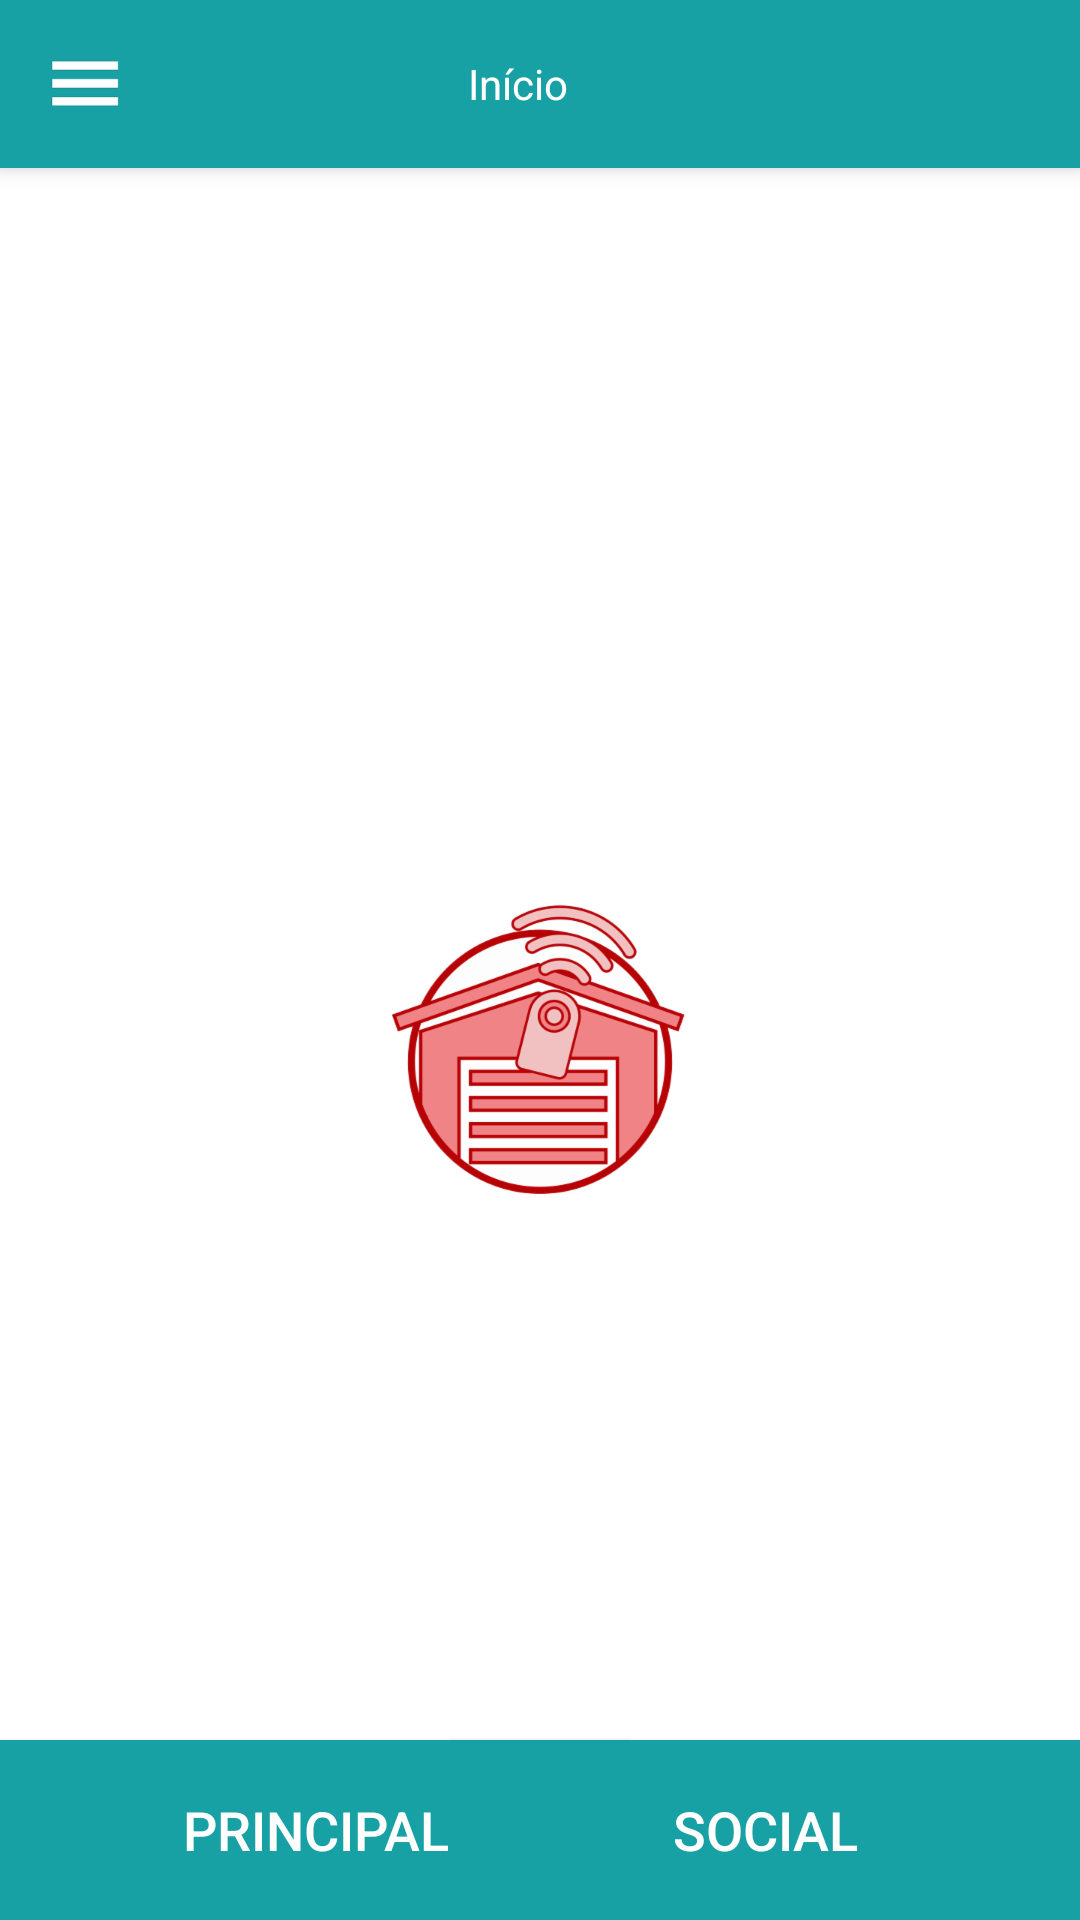

Icons on this 1080 x 1920 Android screen, each with its box as (x1, y1, x2, y2):
demo door: (392, 905, 685, 1194)
menu: (52, 61, 118, 106)
